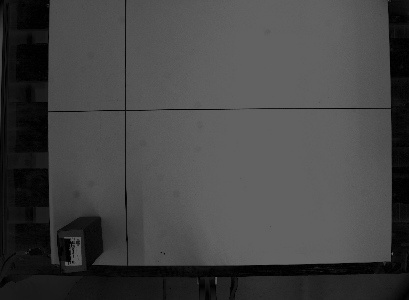b6: (55, 215, 106, 275)
